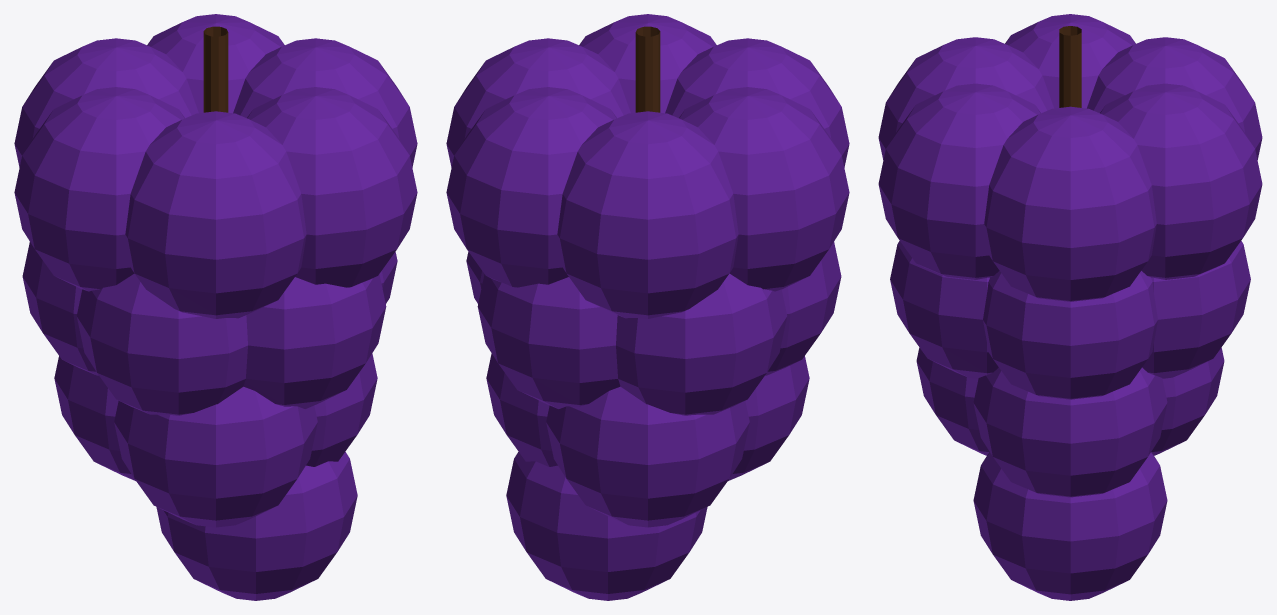
File: grapes.obj
The picture shows the model from 3 angles, left to right: view 1: azimuth 30°, elevation 25°; view 2: azimuth 150°, elevation 25°; view 3: azimuth 270°, elevation 25°; orthographic projection. The views are drawn at different scales.
Parts seen in each view (by area): view 1: grape_0_2, grape_0_3, grape_0_1, grape_2_1, grape_1_2, grape_3_0, grape_1_1, grape_0_4, grape_0_0, grape_0_5, grape_2_2, grape_1_3 (+2 smaller); view 2: grape_0_4, grape_0_3, grape_0_5, grape_2_2, grape_1_3, grape_3_0, grape_1_4, grape_0_2, grape_0_0, grape_0_1, grape_2_1, grape_1_2 (+2 smaller); view 3: grape_0_0, grape_0_1, grape_0_5, grape_3_0, grape_2_0, grape_1_0, grape_1_1, grape_1_4, grape_0_2, grape_0_4, grape_0_3, grape_2_1 (+2 smaller).
Boxes of the visible parts, bbox=[...] form: grape_0_2: bbox=[125, 111, 306, 318]; grape_0_3: bbox=[14, 87, 184, 291]; grape_0_1: bbox=[247, 87, 417, 287]; grape_2_1: bbox=[114, 386, 317, 527]; grape_1_2: bbox=[76, 273, 247, 415]; grape_3_0: bbox=[156, 452, 357, 600]; grape_1_1: bbox=[243, 274, 386, 408]; grape_0_4: bbox=[14, 38, 198, 167]; grape_0_0: bbox=[233, 38, 417, 167]; grape_0_5: bbox=[147, 14, 284, 113]; grape_2_2: bbox=[54, 356, 135, 480]; grape_1_3: bbox=[22, 242, 98, 375]; grape_0_4: bbox=[557, 111, 738, 318]; grape_0_3: bbox=[679, 87, 849, 291]; grape_0_5: bbox=[446, 87, 616, 287]; grape_2_2: bbox=[546, 386, 749, 527]; grape_1_3: bbox=[616, 273, 787, 415]; grape_3_0: bbox=[506, 452, 707, 600]; grape_1_4: bbox=[477, 274, 620, 408]; grape_0_2: bbox=[665, 38, 849, 167]; grape_0_0: bbox=[446, 38, 630, 167]; grape_0_1: bbox=[579, 14, 716, 113]; grape_2_1: bbox=[728, 356, 809, 480]; grape_1_2: bbox=[765, 242, 841, 375]; grape_0_0: bbox=[984, 106, 1156, 301]; grape_0_1: bbox=[878, 83, 1040, 279]; grape_0_5: bbox=[1100, 83, 1262, 279]; grape_3_0: bbox=[973, 452, 1167, 600]; grape_2_0: bbox=[973, 367, 1167, 497]; grape_1_0: bbox=[983, 271, 1157, 399]; grape_1_1: bbox=[890, 241, 998, 378]; grape_1_4: bbox=[1142, 241, 1250, 378]; grape_0_2: bbox=[878, 37, 1053, 159]; grape_0_4: bbox=[1087, 37, 1262, 159]; grape_0_3: bbox=[1005, 14, 1135, 108]; grape_2_1: bbox=[916, 347, 989, 455].
Bounding box in the file's own units: 0.49 × 0.71 × 0.4552.
